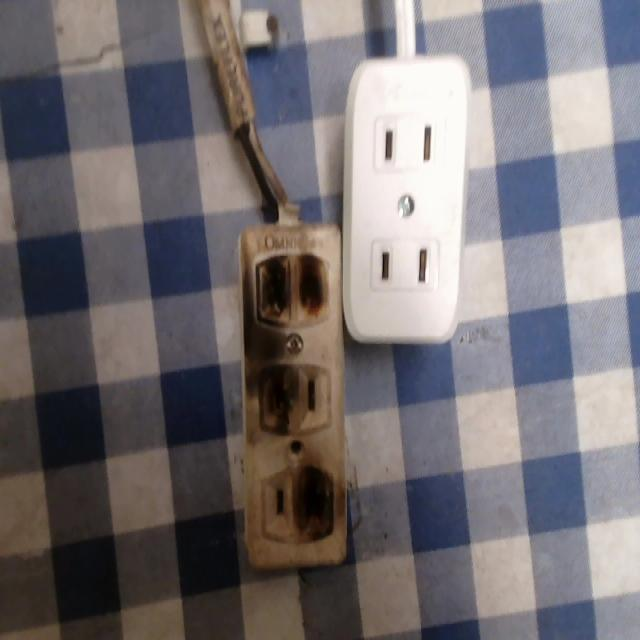-: (247, 247, 332, 324), (289, 456, 336, 544), (252, 360, 299, 439)
